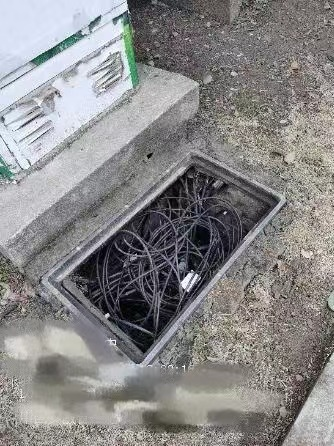well: (33, 147, 288, 366)
